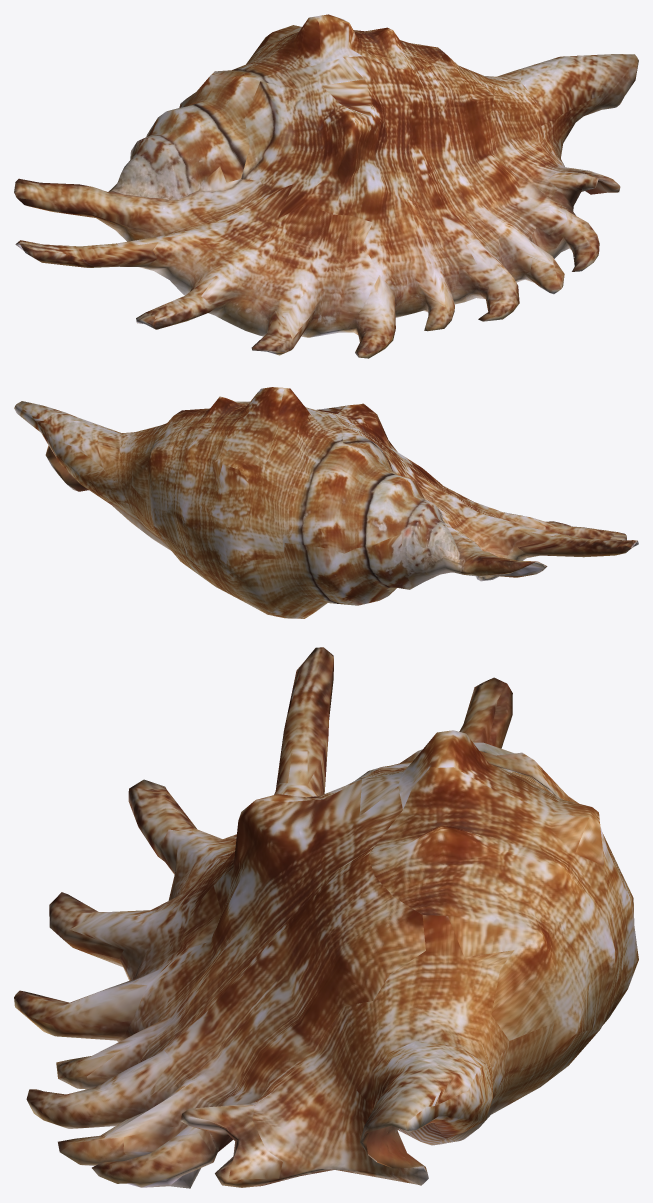
The model's file is scan_conch.glb.
3 views of the same model, one above another, from view 1: azimuth 30°, elevation 25°; view 2: azimuth 150°, elevation 25°; view 3: azimuth 270°, elevation 25° (orthographic). The views are drawn at different scales.
Parts seen in each view (by area): view 1: scan_conch; view 2: scan_conch; view 3: scan_conch.
Part boxes in pixels (x1,y1,x2,y2): scan_conch: (14,14,638,358); scan_conch: (14,387,638,618); scan_conch: (14,647,638,1188).
Size of the model in its own units: 0.1394 by 0.0464 by 0.0745.
Materials: 1 (1 with a texture image).
